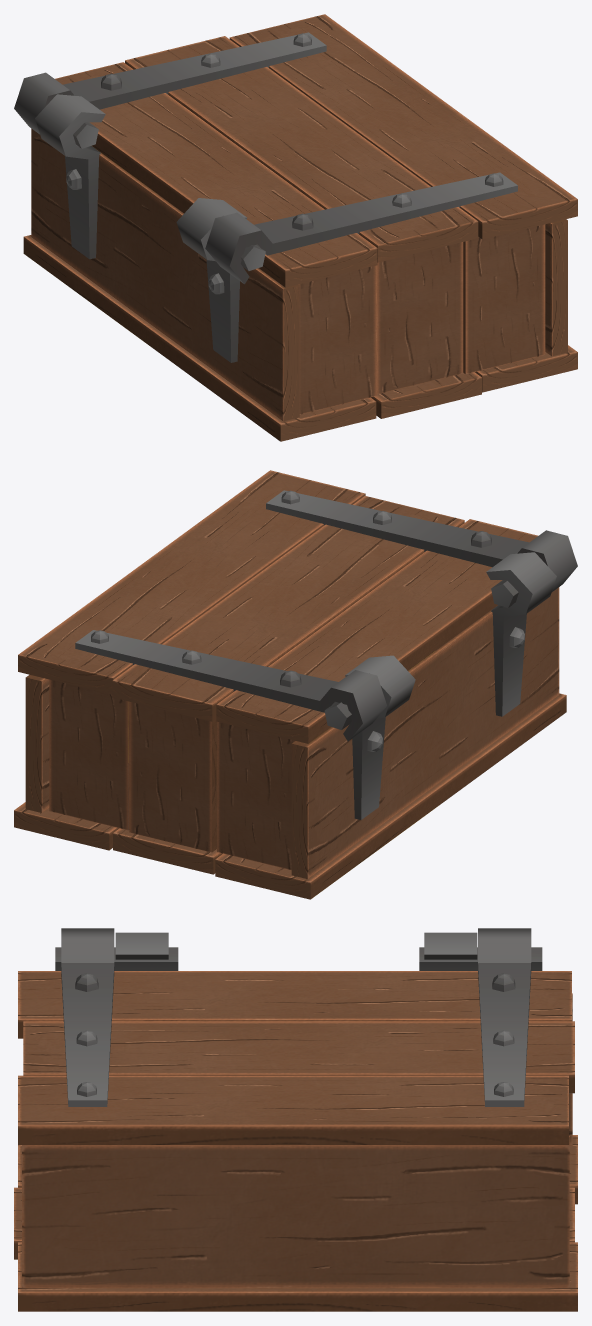
File: WoodenBox_01.fbx
The picture shows the model from 3 angles, top to bottom: view 1: azimuth 30°, elevation 25°; view 2: azimuth 150°, elevation 25°; view 3: azimuth 270°, elevation 25°; orthographic projection. The views are drawn at different scales.
Parts seen in each view (by area): view 1: pCylinder3, pCube36; view 2: pCylinder3, pCube36; view 3: pCube36, pCylinder3.
Part boxes in pixels (left/top/right/bottom): pCylinder3: left=23, top=94, right=577, bottom=441; pCube36: left=14, top=14, right=577, bottom=287; pCylinder3: left=14, top=552, right=566, bottom=899; pCube36: left=18, top=470, right=577, bottom=743; pCube36: left=18, top=928, right=574, bottom=1144; pCylinder3: left=14, top=932, right=577, bottom=1311.
Bounding box in the file's own units: 5.66 × 3.2 × 7.63.
